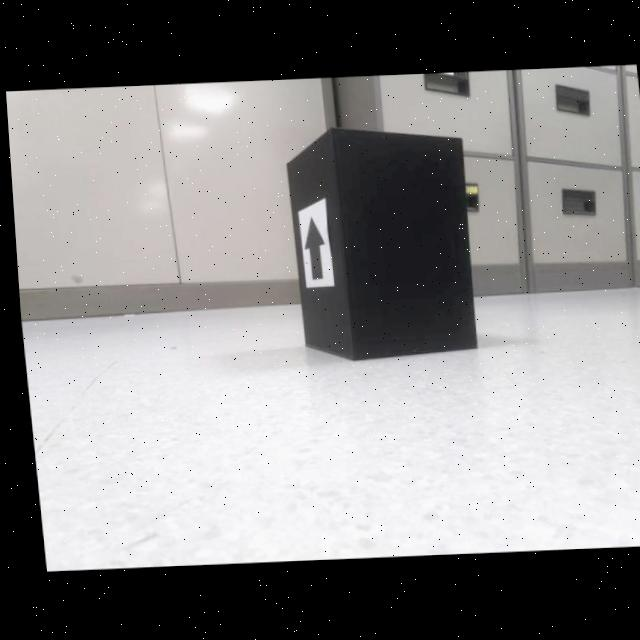UP: (300, 215, 323, 281)
